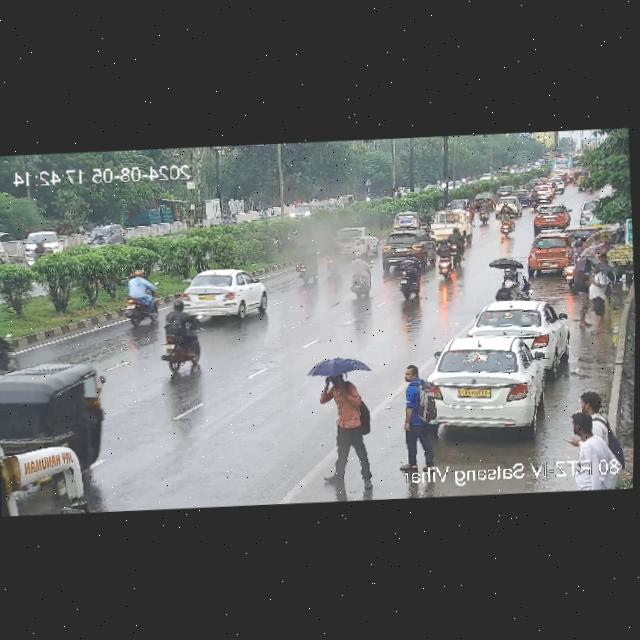bus: (1, 422, 98, 517), (548, 151, 581, 178)
car: (415, 334, 559, 434), (0, 365, 113, 479), (472, 298, 570, 357), (175, 269, 269, 323), (377, 230, 436, 266), (527, 233, 575, 272), (427, 209, 472, 238), (22, 228, 64, 257), (529, 203, 570, 230), (86, 222, 124, 249), (390, 210, 422, 230), (541, 175, 563, 199), (442, 197, 474, 211), (579, 199, 596, 222), (288, 203, 314, 216), (506, 194, 522, 214), (475, 192, 496, 207), (337, 193, 354, 207), (495, 185, 512, 197), (541, 186, 552, 204), (520, 188, 529, 204)
motorcycle: (154, 302, 211, 375), (118, 268, 162, 326), (432, 232, 470, 271), (343, 254, 374, 299), (397, 255, 427, 301), (562, 247, 581, 289), (474, 200, 495, 225), (496, 215, 520, 236), (90, 230, 108, 244), (499, 202, 512, 220), (221, 211, 239, 224), (33, 241, 47, 257), (530, 191, 542, 208), (259, 208, 271, 219)
person: (323, 362, 367, 480), (397, 363, 433, 439), (569, 392, 611, 438), (565, 424, 613, 464), (586, 262, 611, 331), (496, 262, 532, 302), (572, 258, 592, 326)
truck: (406, 460, 547, 498)
